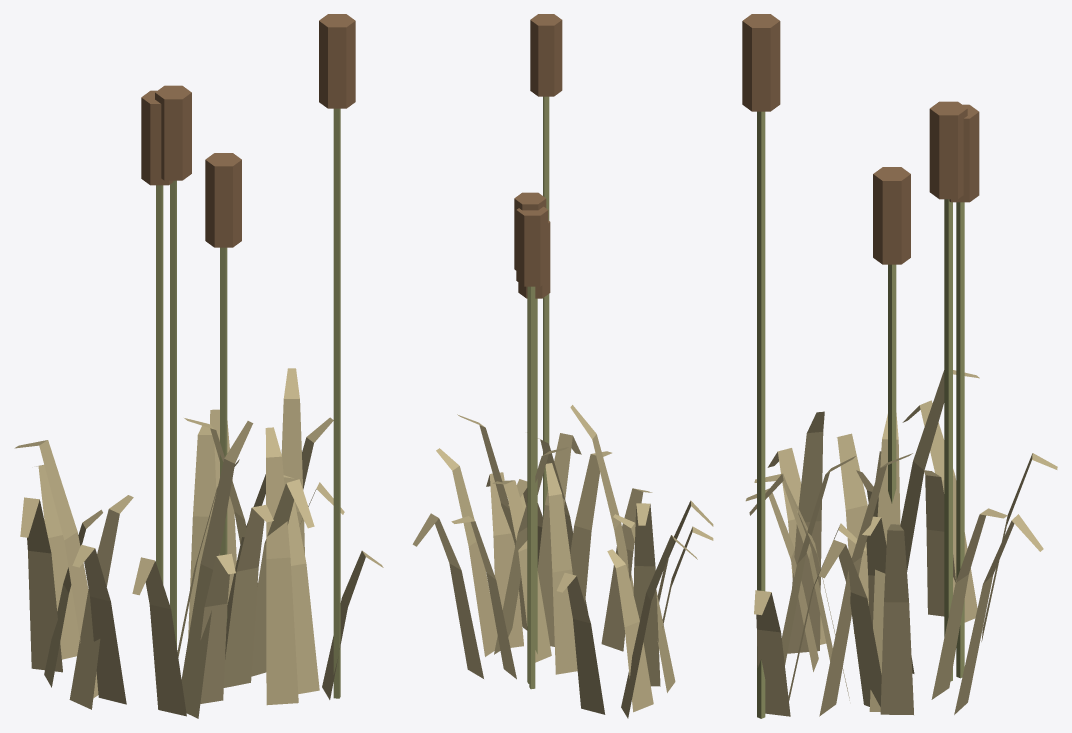
Rendered from reeds_2.glb.
3 renders of one model, left to right at view 1: azimuth 30°, elevation 25°; view 2: azimuth 150°, elevation 25°; view 3: azimuth 270°, elevation 25°, orthographic. The views are drawn at different scales.
Visible parts, largest first — view 1: reeds_2; view 2: reeds_2; view 3: reeds_2.
Boxes of the visible parts, <box> form: reeds_2: <box>14,14,383,718</box>; reeds_2: <box>412,14,713,718</box>; reeds_2: <box>742,14,1057,718</box>.
Size of the model in its own units: 0.8643 by 1.83 by 0.7505.
